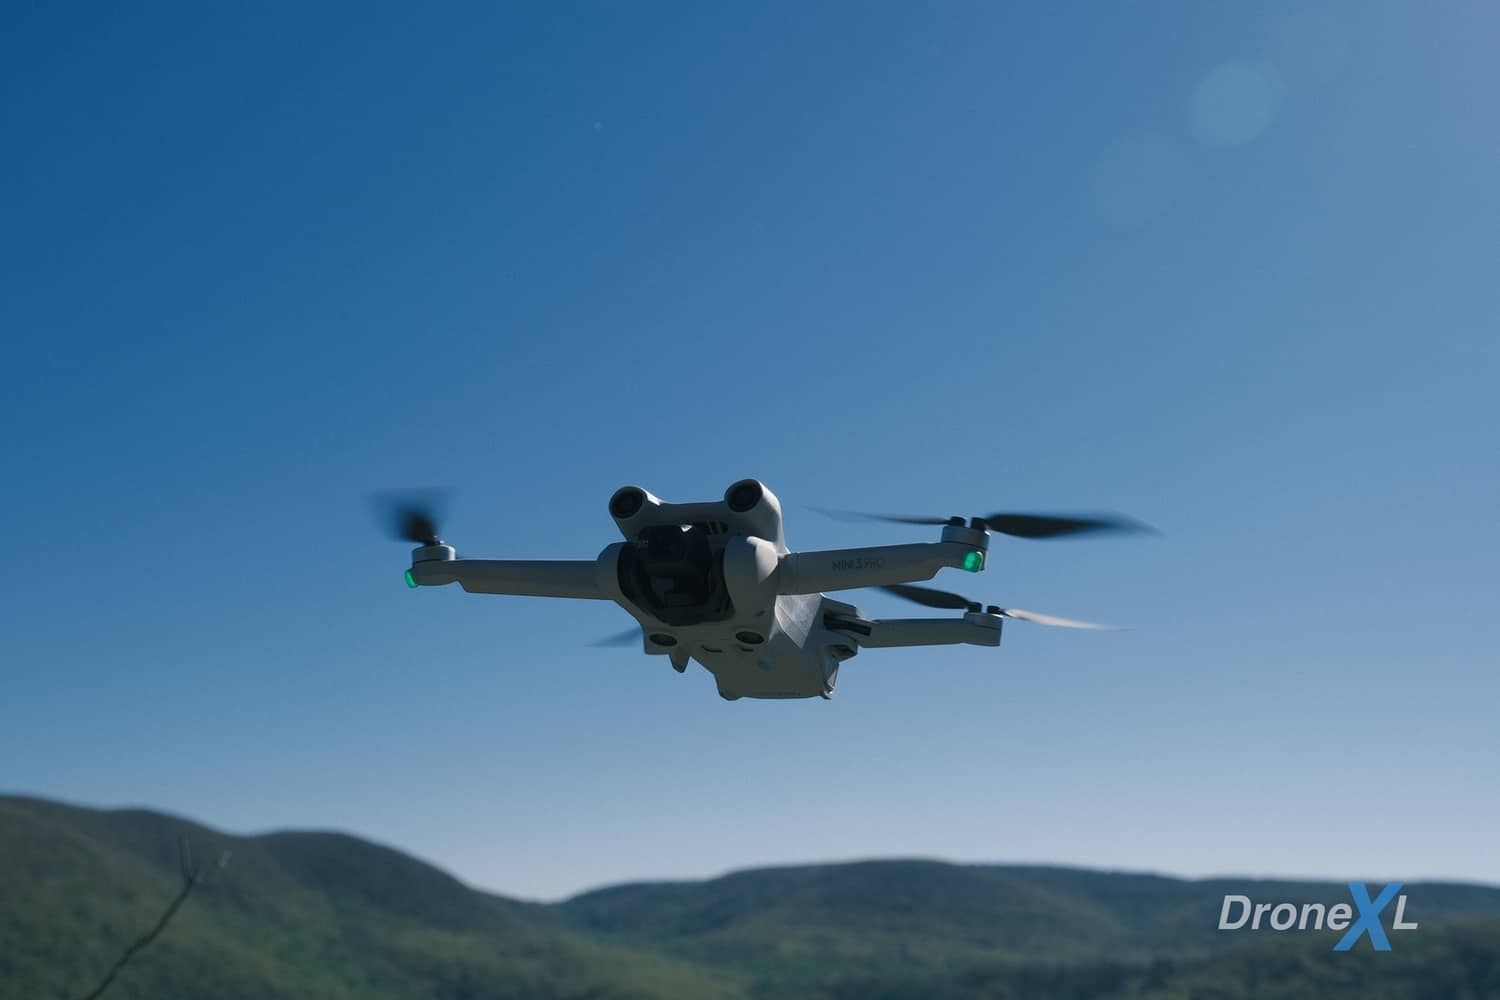drone: (363, 475, 1133, 709)
